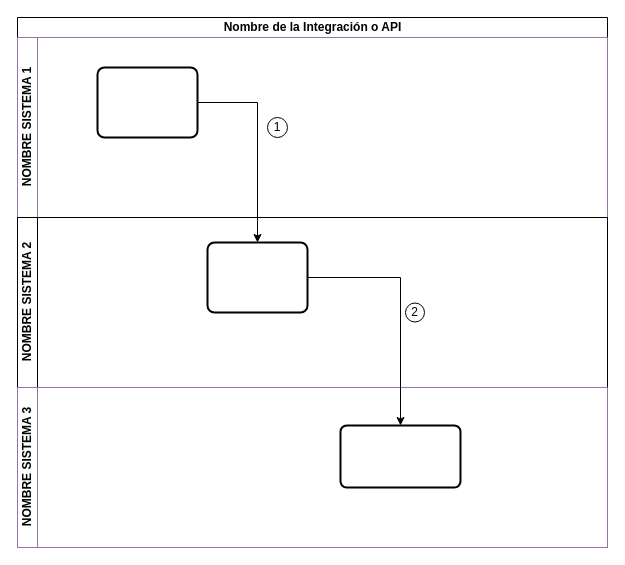
This 625x565 diagram has some shape labels left out. The shapes that lost their labels are listed below. From the top down, each one's centre as x and y in pixels, then its label:
At (x=147, y=102): "Nombre acción 1".
At (x=257, y=277): "Nombre acción 2".
At (x=400, y=456): "Nombre acción 3".
